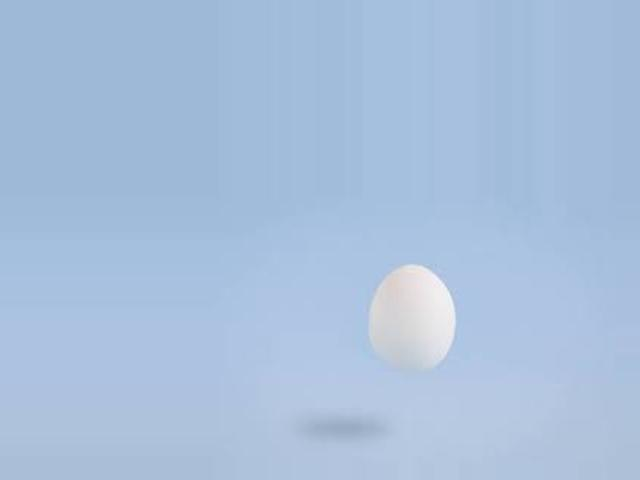egg: (367, 264, 456, 373)
